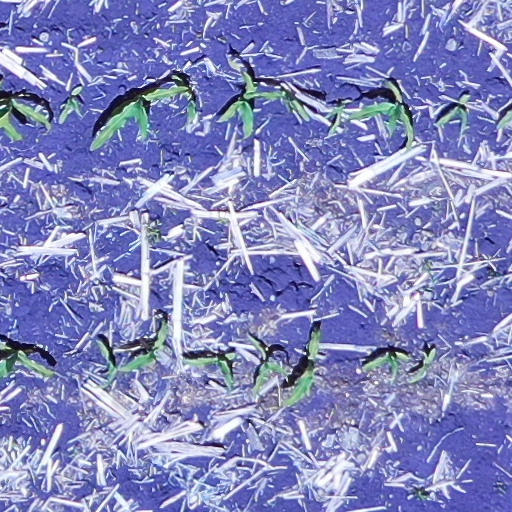planta: (93, 84, 192, 149), (345, 81, 418, 150), (220, 72, 288, 135), (278, 329, 322, 408), (115, 317, 169, 372), (251, 335, 290, 399), (183, 350, 237, 387), (363, 351, 410, 382), (436, 95, 468, 128), (96, 340, 117, 389), (410, 349, 435, 383), (60, 86, 80, 120)
